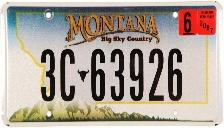2: (148, 46, 165, 102)
3: (38, 47, 57, 103), (109, 46, 126, 102)
6: (89, 46, 107, 103), (166, 46, 184, 102)
9: (128, 46, 145, 102)
C: (58, 47, 78, 103)
